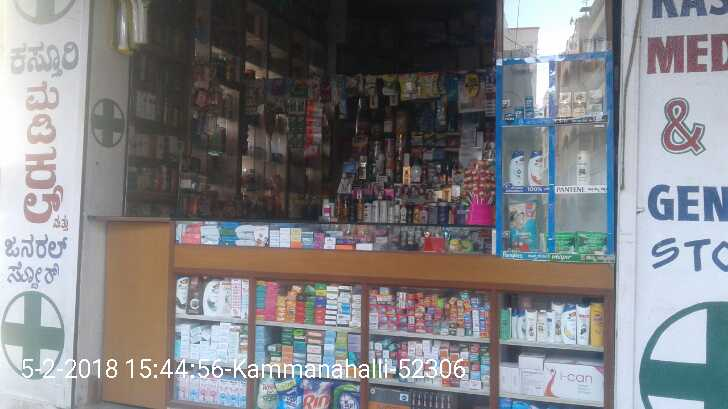beauty: (527, 151, 542, 185), (577, 149, 590, 185), (509, 151, 523, 184), (573, 90, 587, 117), (588, 89, 601, 111), (558, 92, 570, 114)
pharmacy: (508, 200, 540, 254), (575, 231, 609, 254), (552, 230, 575, 252), (524, 96, 534, 109)
